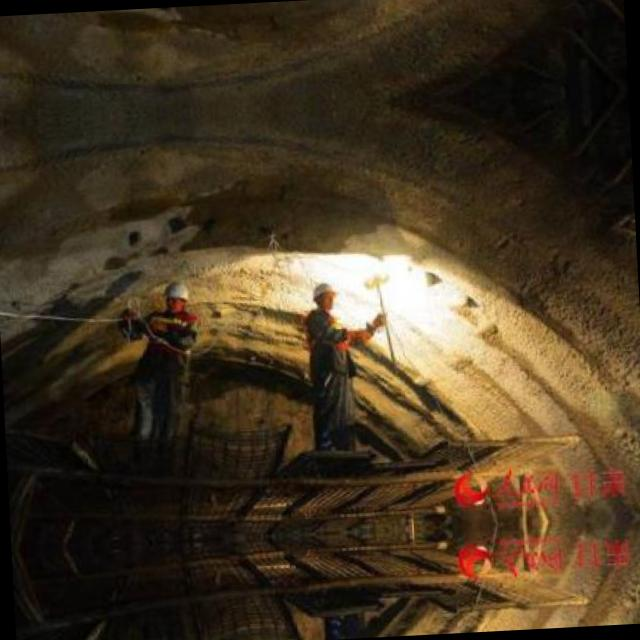helmet: (160, 279, 191, 317), (310, 278, 336, 313)
